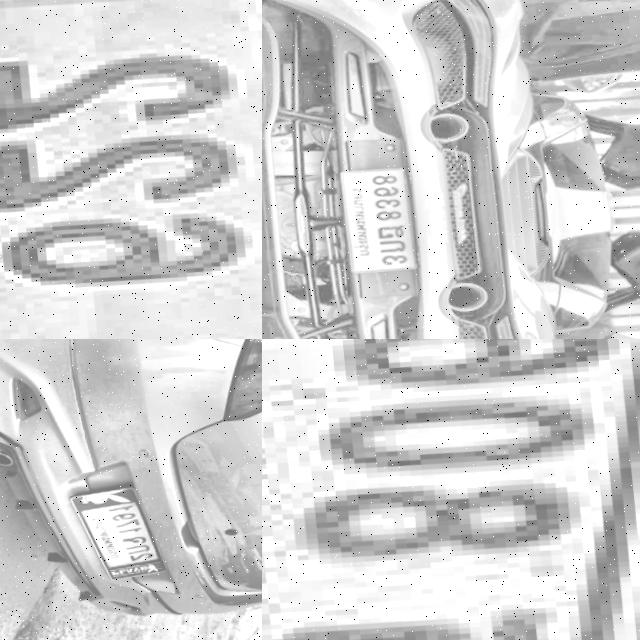license-plate: (262, 339, 640, 640), (0, 0, 262, 339), (64, 473, 168, 589), (338, 160, 422, 274)
